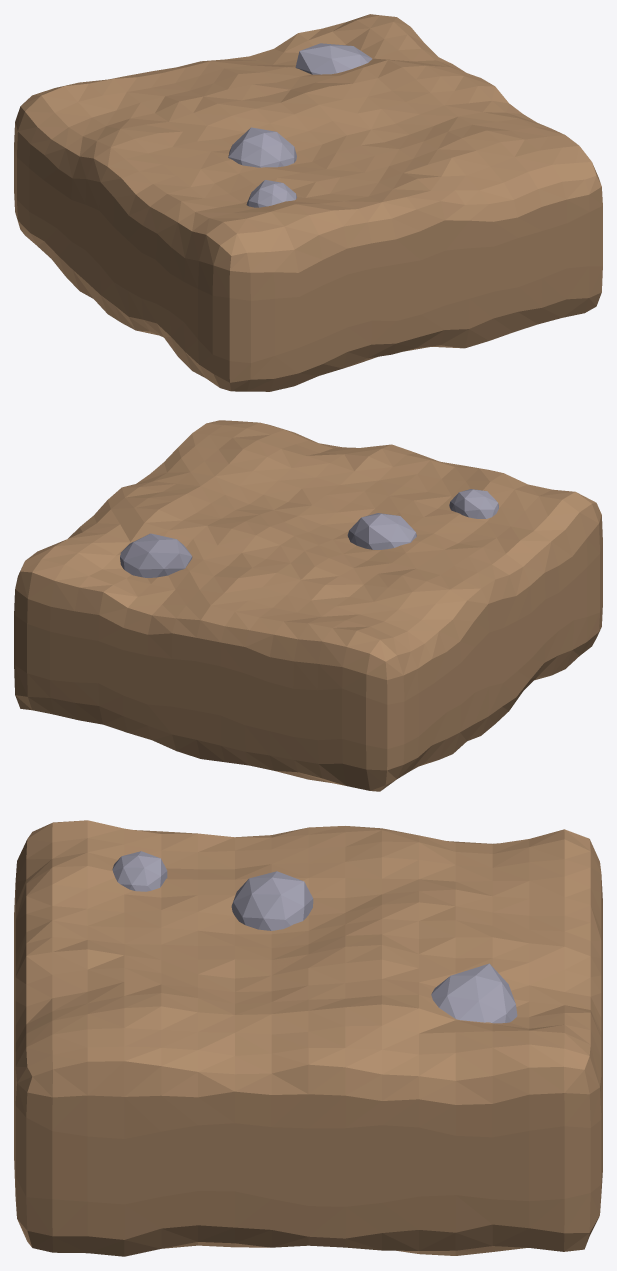
Rendered from dirt3.glb.
3 renders of one model, top to bottom at view 1: azimuth 30°, elevation 25°; view 2: azimuth 150°, elevation 25°; view 3: azimuth 270°, elevation 25°, orthographic. The views are drawn at different scales.
Visible parts, largest first — view 1: Cube, Icosphere.001, Icosphere, Icosphere.002; view 2: Cube, Icosphere, Icosphere.001, Icosphere.002; view 3: Cube, Icosphere.001, Icosphere, Icosphere.002.
Boxes of the visible parts, x1,y1,x2,y2 form: Cube: (14,14,602,391); Icosphere.001: (228,127,296,167); Icosphere: (295,43,371,74); Icosphere.002: (246,180,296,207); Cube: (14,420,602,791); Icosphere: (120,533,192,577); Icosphere.001: (347,513,416,549); Icosphere.002: (449,489,498,518); Cube: (14,820,602,1256); Icosphere.001: (231,871,313,930); Icosphere: (431,963,517,1023); Icosphere.002: (112,851,167,891).
Bounding box in the file's own units: 2 × 0.8981 × 2.
